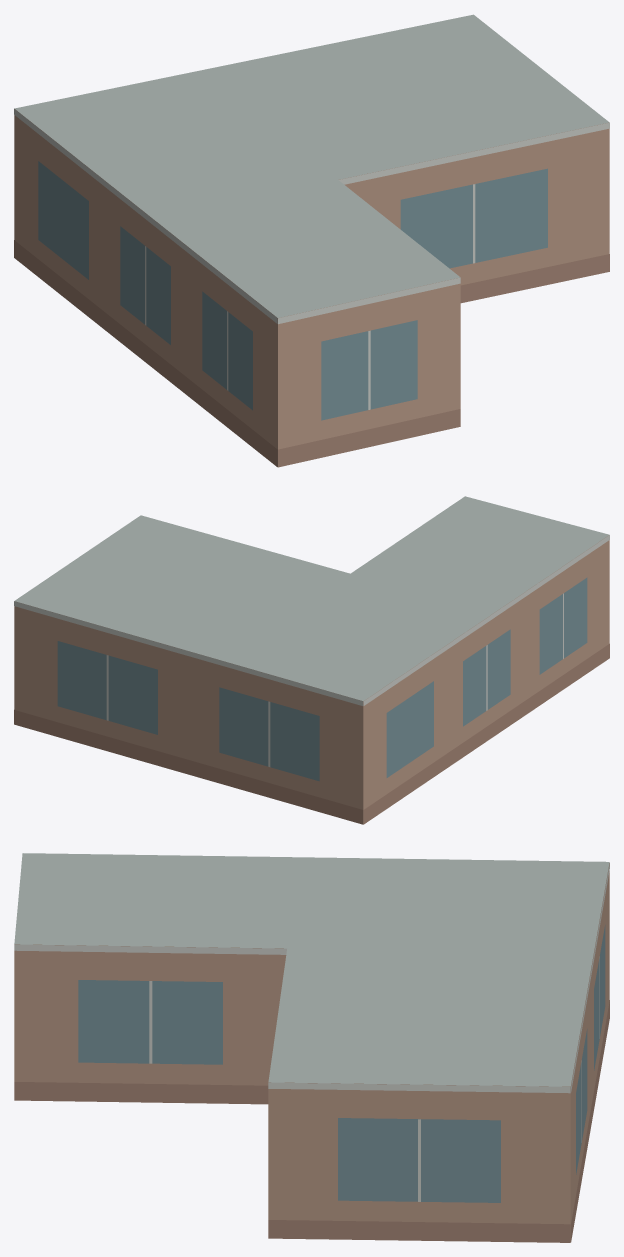
File: survey-upis-32729039.glb
The picture shows the model from 3 angles, top to bottom: view 1: azimuth 30°, elevation 25°; view 2: azimuth 150°, elevation 25°; view 3: azimuth 270°, elevation 25°; orthographic projection. The views are drawn at different scales.
Parts seen in each view (by area): view 1: survey-upis-32729039.tmp; view 2: survey-upis-32729039.tmp; view 3: survey-upis-32729039.tmp.
Boxes of the visible parts, left/top/right/bottom form: survey-upis-32729039.tmp: left=14, top=14, right=609, bottom=467; survey-upis-32729039.tmp: left=14, top=496, right=609, bottom=824; survey-upis-32729039.tmp: left=14, top=853, right=609, bottom=1242.
Bounding box in the file's own units: 9.81 × 3.05 × 10.56.
